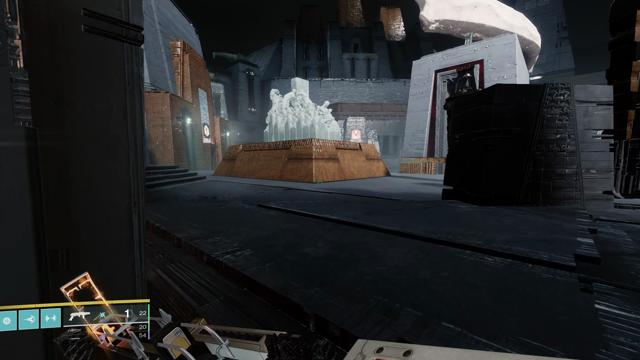give: (352, 131, 360, 139)
worship: (204, 125, 209, 136)
